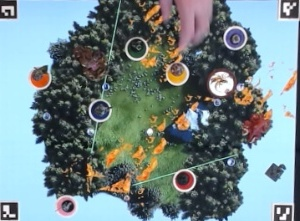blue: (88, 95, 116, 122)
green: (124, 35, 151, 62)
orange: (29, 64, 52, 92)
pink: (54, 193, 80, 217)
red: (174, 167, 200, 192)
violet: (220, 24, 249, 52)
yellow: (166, 59, 191, 86)
